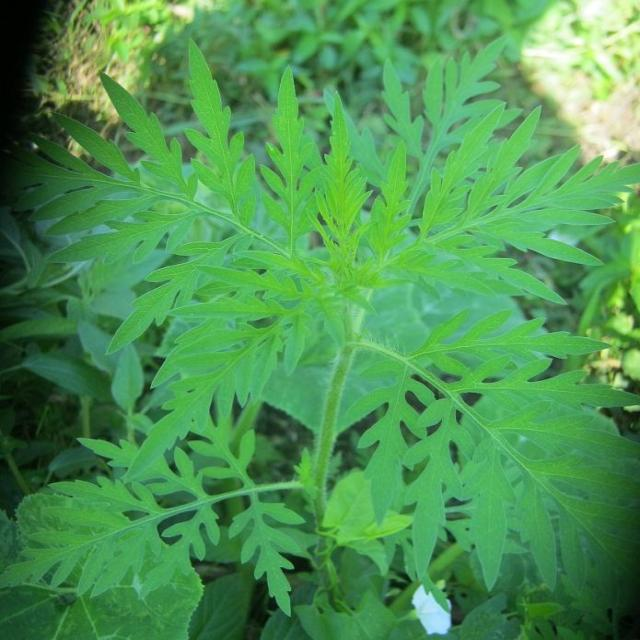ambrosia: (34, 73, 609, 431)
